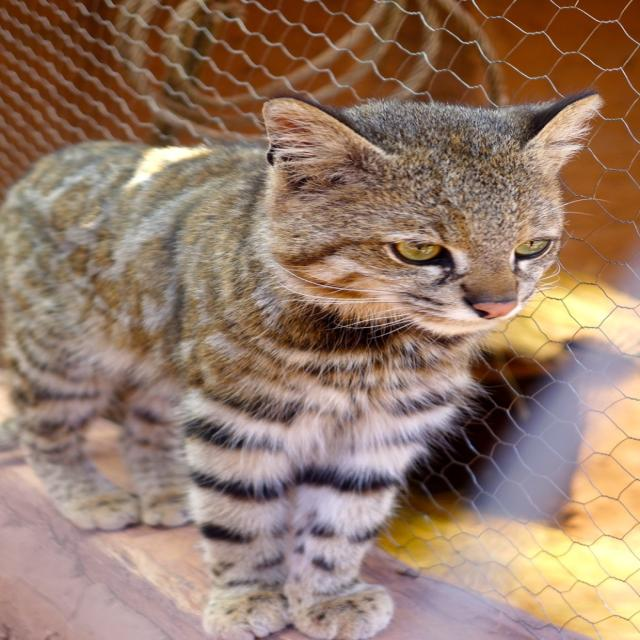Cat: (0, 87, 607, 639)
